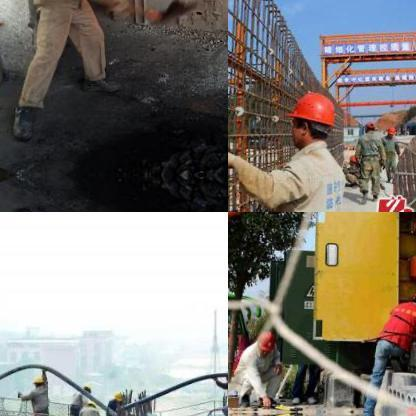Helmet: (286, 90, 340, 146), (252, 328, 276, 356), (84, 396, 98, 410), (79, 380, 93, 392), (408, 287, 415, 309), (385, 124, 395, 138), (32, 373, 42, 387), (112, 390, 124, 400)
